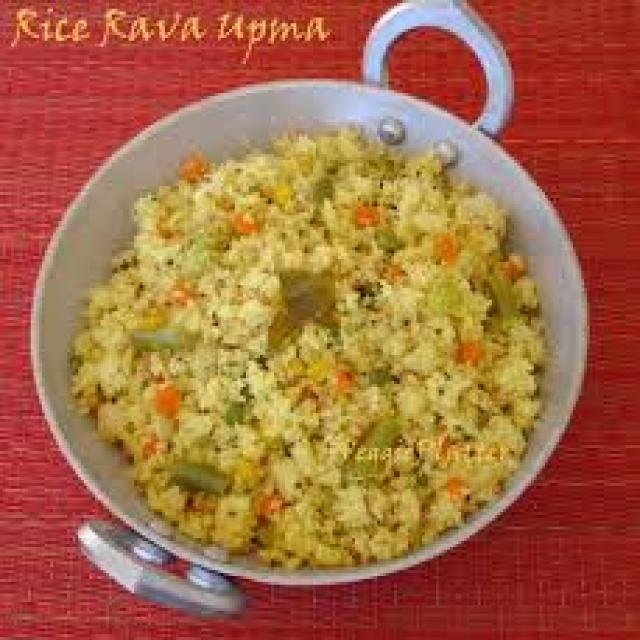POHA: (64, 122, 548, 564)
